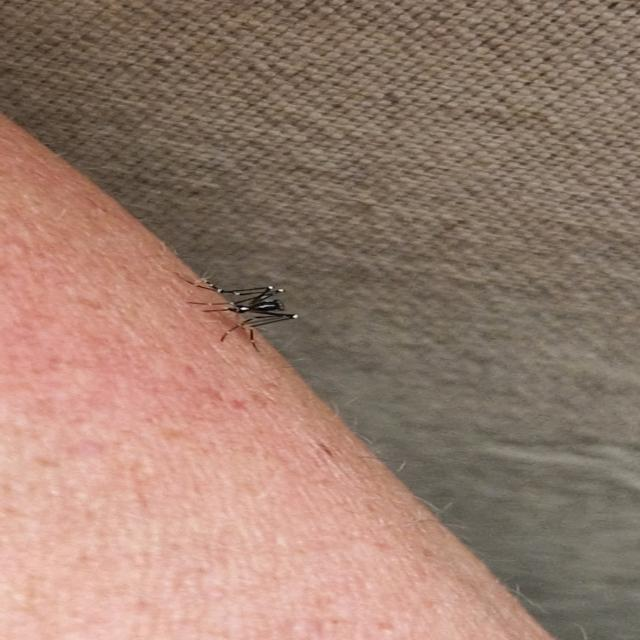albopictus: (165, 261, 308, 352)
